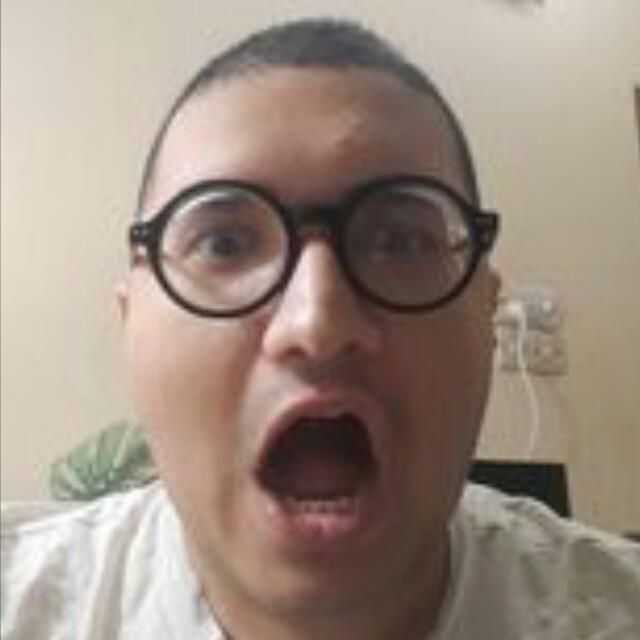Surprised: (83, 104, 514, 569)
